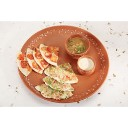dosa: (16, 45, 74, 99)
